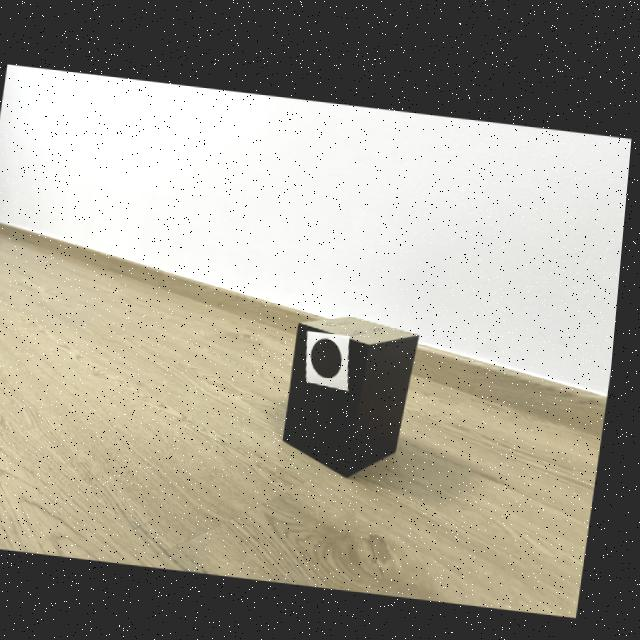CIRCLE: (317, 334, 348, 373)
